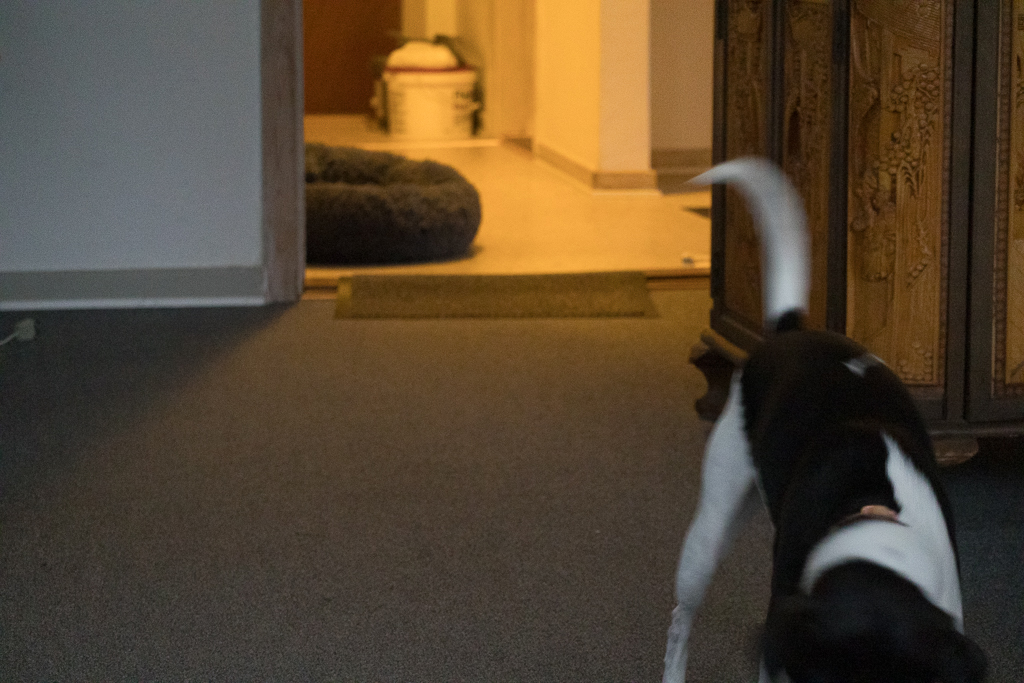Dog: (653, 141, 1010, 683)
